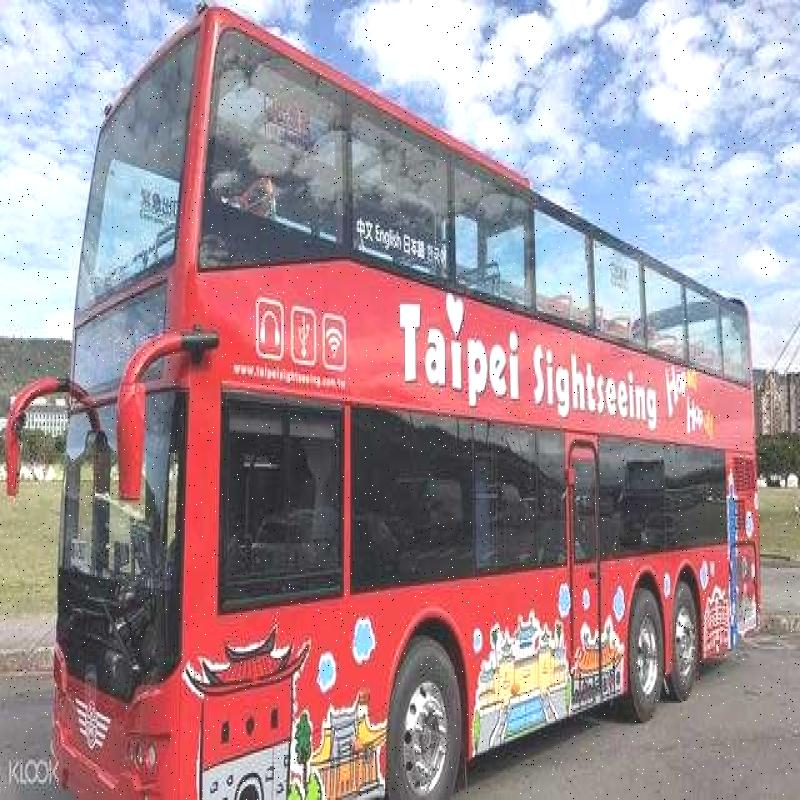bus: (42, 32, 772, 739)
